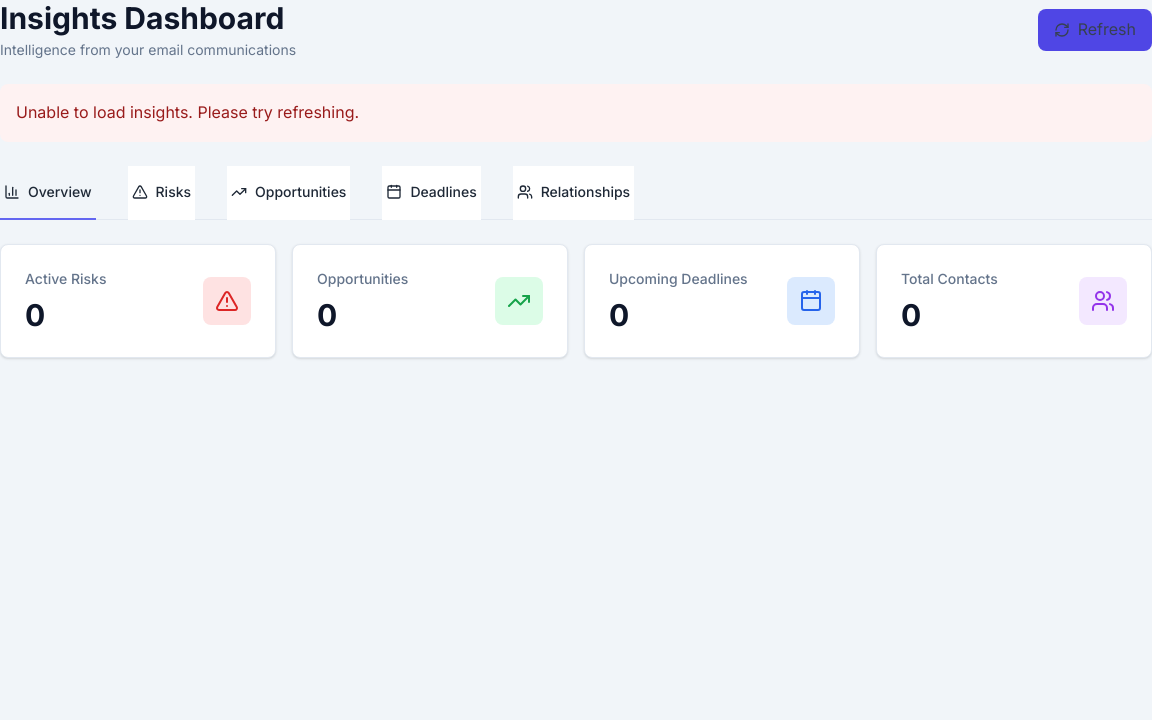
Scenario: Insights Dashboard › shows a safe load failure and recovers on refresh
This screenshot has width=1152, height=720.
Expected: the message shows "Unable to load insights", [16, 102, 359, 122]
Step 1. Click the button "Refresh" → (1095, 30), box [1038, 9, 1151, 51]
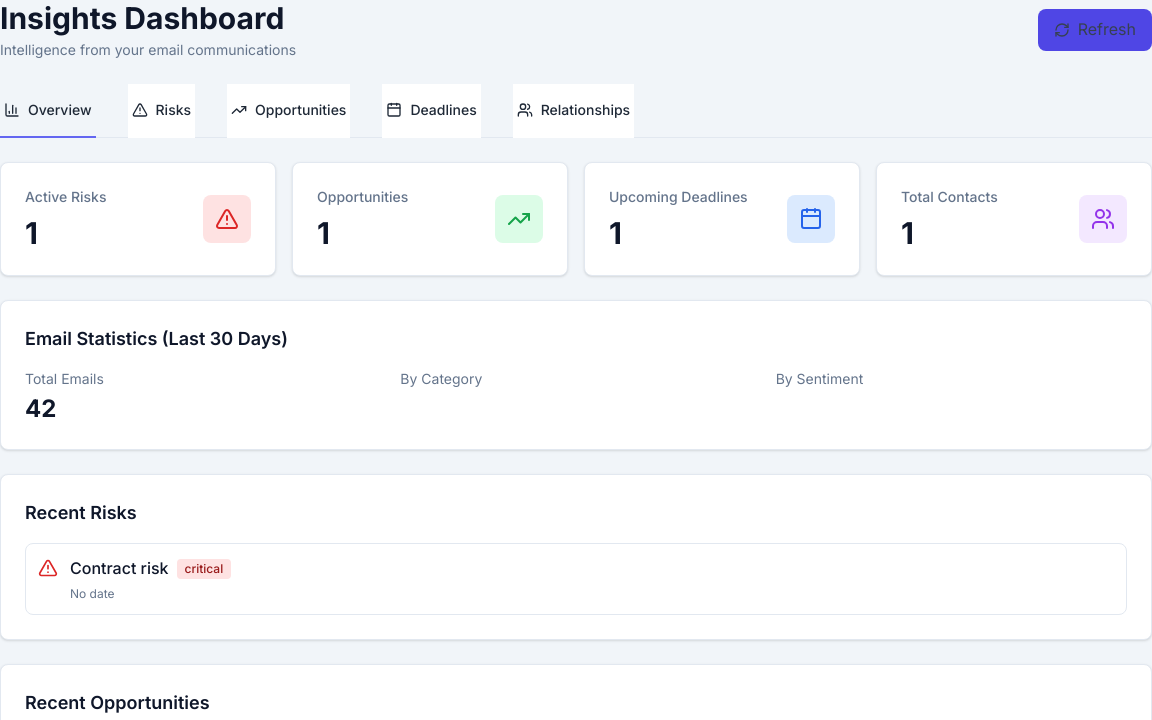
Expected: the heading "Recent Risks" is shown, [25, 502, 137, 523]
Expected: the message "Unable to load insights. Please try refreshing." is gone
